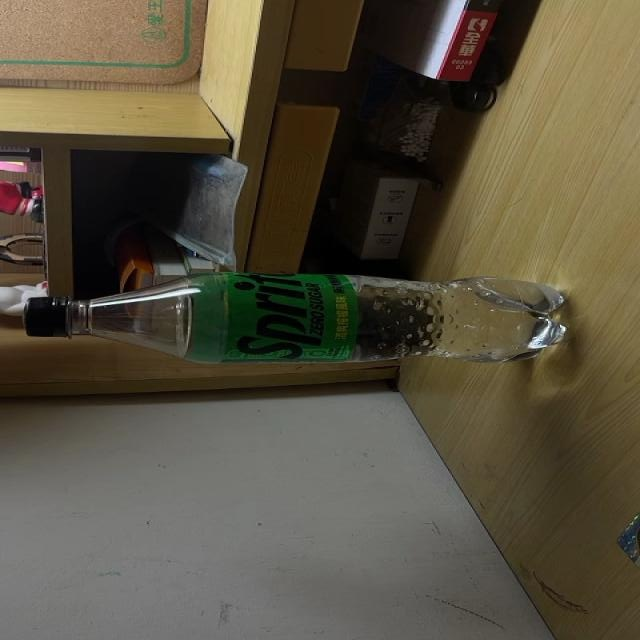Sprite: (23, 272, 572, 364)
